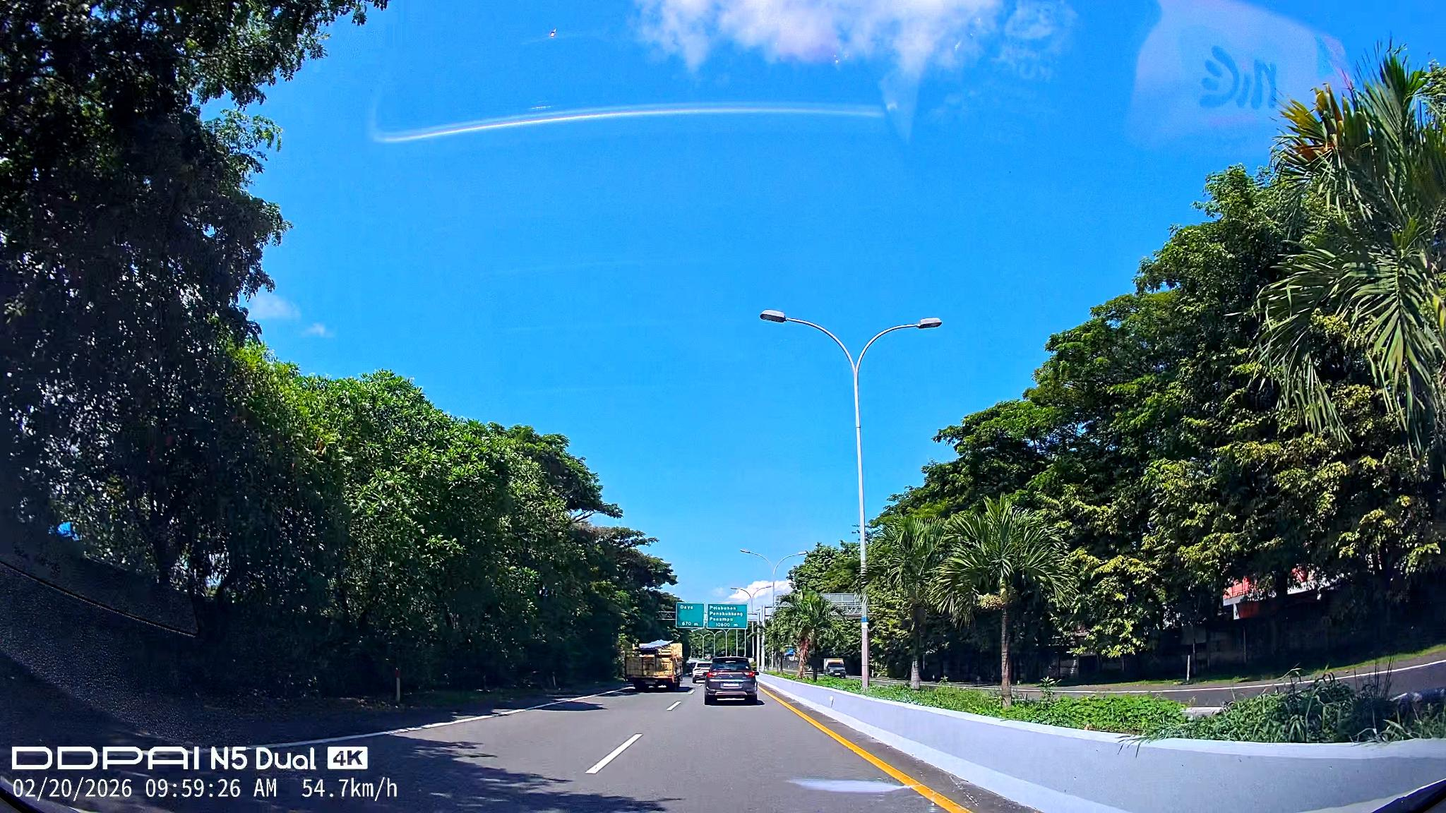rambu_teks: (707, 603, 748, 629), (675, 602, 704, 629)
